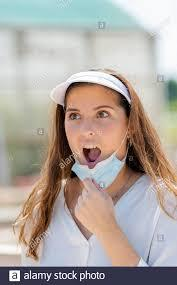Wore Mask Incorrectly: (48, 66, 156, 223)
